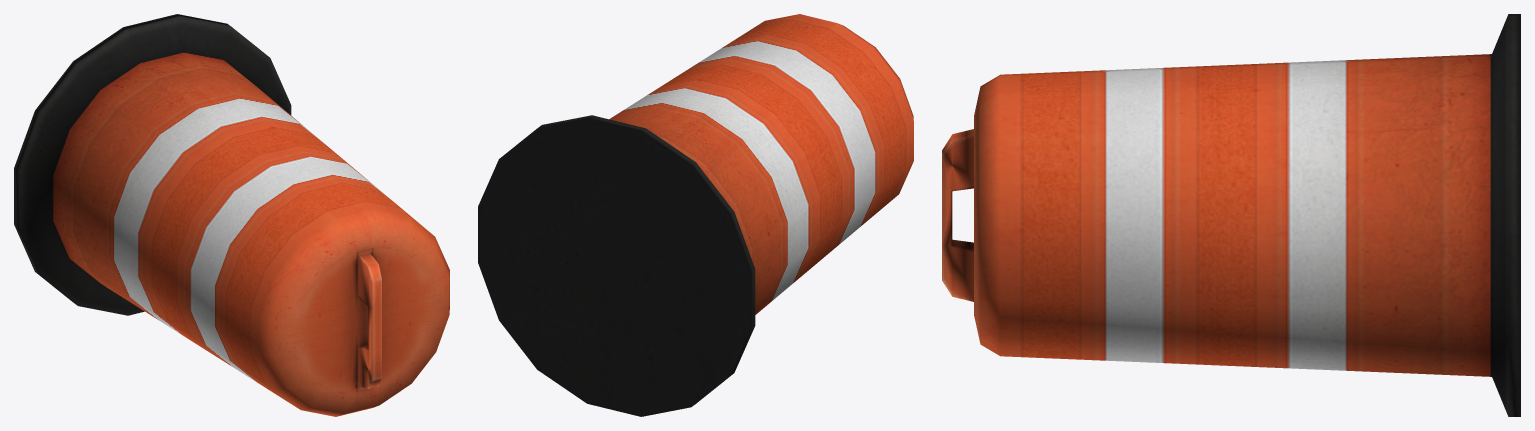
Rendered from roadbarrel.fbx.
3 views of the same model, side by side, from view 1: azimuth 30°, elevation 25°; view 2: azimuth 150°, elevation 25°; view 3: azimuth 270°, elevation 25° (orthographic). The views are drawn at different scales.
Parts seen in each view (by area): view 1: roadbarrel; view 2: roadbarrel; view 3: roadbarrel.
Part boxes in pixels (x1=…): roadbarrel: x1=14, y1=14, x2=449, y2=416; roadbarrel: x1=478, y1=14, x2=913, y2=416; roadbarrel: x1=942, y1=14, x2=1520, y2=416.
Bounding box in the file's own units: 0.926 × 0.926 × 1.34.
